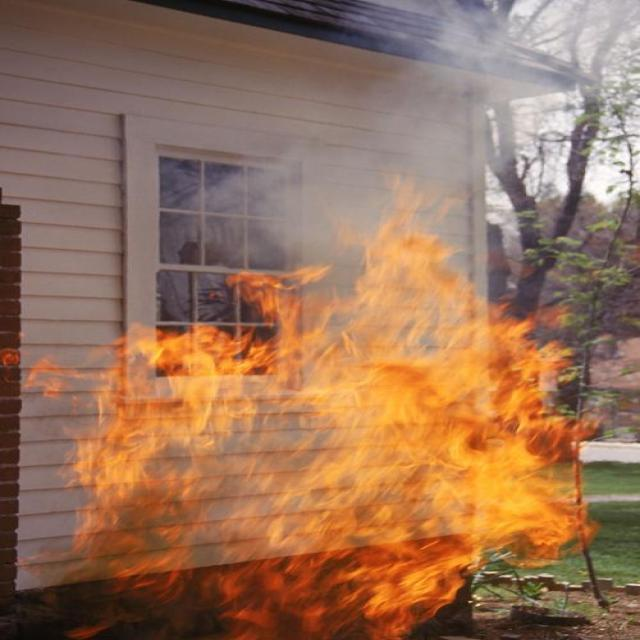Fire: (0, 169, 595, 640)
